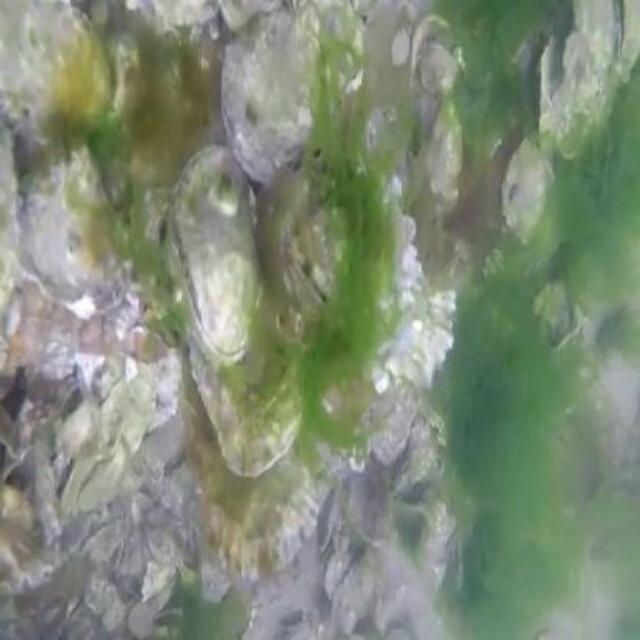Oyster-Closed: (262, 146, 456, 390), (194, 390, 316, 577), (184, 293, 303, 476), (169, 145, 267, 365), (219, 4, 335, 178), (16, 146, 135, 313), (0, 0, 113, 145), (0, 518, 62, 604), (503, 136, 552, 238), (0, 113, 19, 314), (333, 549, 378, 632), (429, 101, 463, 198), (80, 450, 126, 511), (122, 379, 151, 449), (613, 0, 640, 75), (420, 41, 457, 94), (323, 543, 349, 606), (142, 564, 171, 599), (89, 574, 113, 614), (140, 436, 160, 479), (131, 603, 155, 637)
Oyster-Open: (538, 0, 618, 158), (134, 0, 219, 30), (44, 595, 77, 640), (154, 606, 182, 633)
